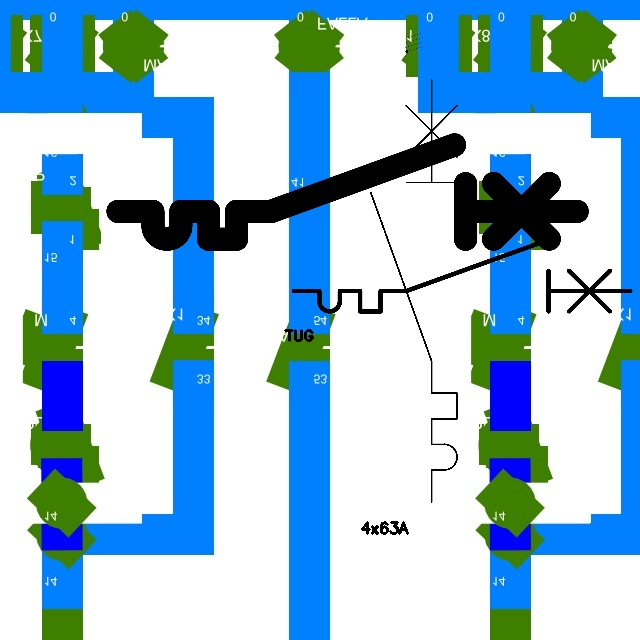interruptor_termomagnetico: (106, 133, 589, 251), (360, 69, 468, 513), (285, 234, 639, 320)
